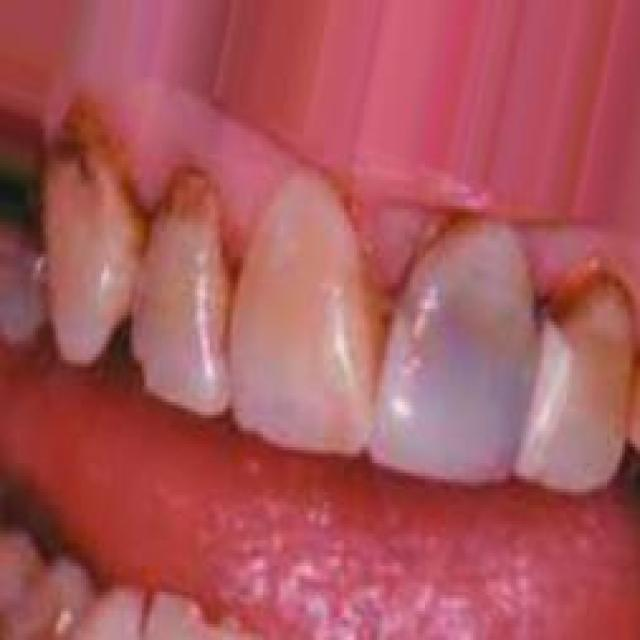caries: (40, 94, 134, 209), (540, 243, 626, 334), (142, 140, 216, 222)
